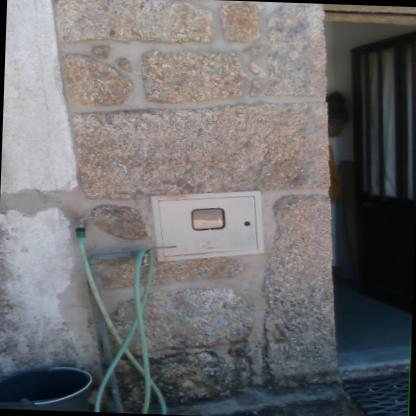open: (310, 10, 416, 378)
